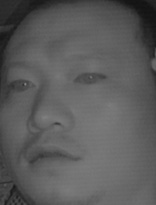eye: (73, 67, 106, 88), (8, 74, 37, 93)
mouth: (20, 137, 86, 176)
